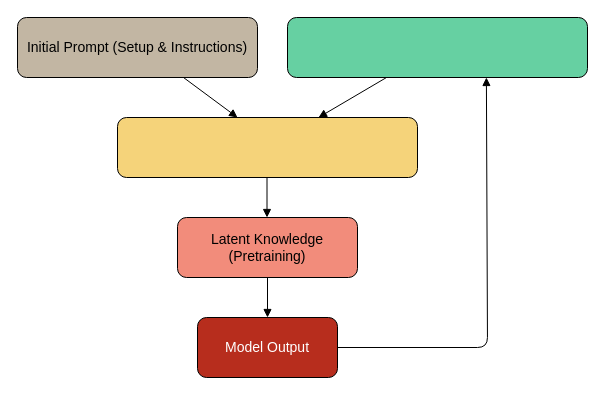
Image size: 605x395. Some labels were removed from this diagram. Here are the shapes that lost their labels. From the top down, the centre of each, then its label:
the point at 437,47: Conversational Context (Message History)
the point at 267,147: Context Window (Working Memory)
